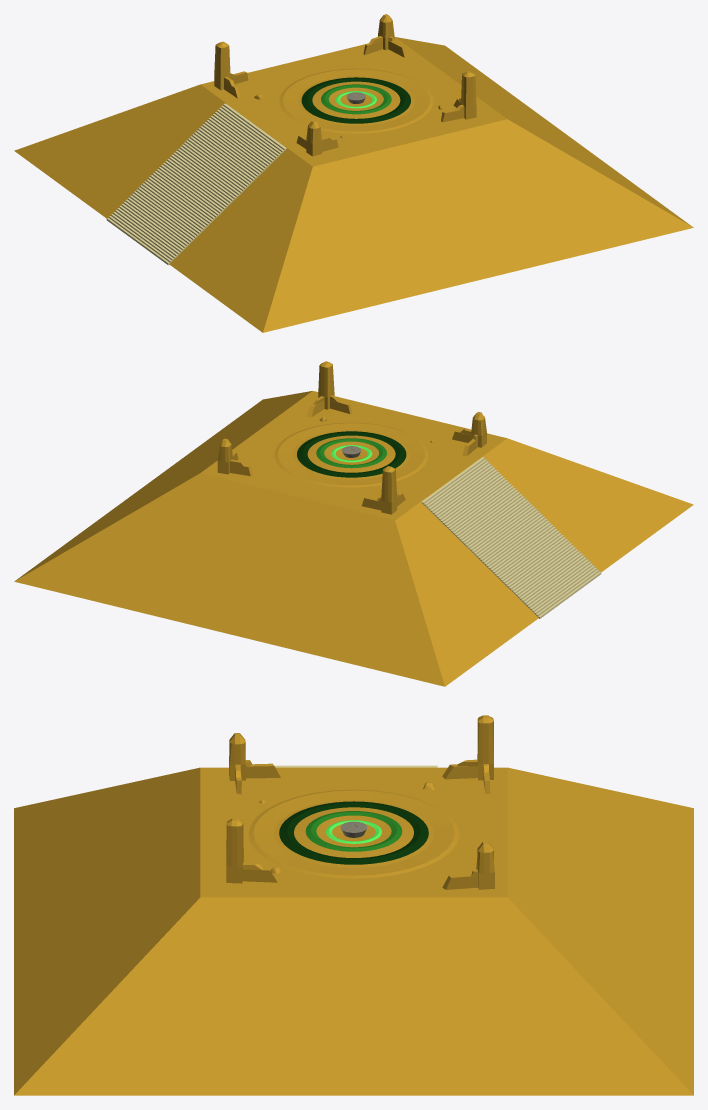
3 renders of one model, top to bottom at view 1: azimuth 30°, elevation 25°; view 2: azimuth 150°, elevation 25°; view 3: azimuth 270°, elevation 25°, orthographic. The views are drawn at different scales.
Visible parts, largest first — view 1: Pyramid, Stairs, Cylinder, Torus.002, Prop4, Prop4.001, Prop3, Prop3.001, Torus.001; view 2: Pyramid, Stairs, Cylinder, Torus.002, Prop4.001, Prop4, Prop3.001, Prop3, Torus.001; view 3: Pyramid, Cylinder, Torus.002, Prop4, Prop4.001, Prop3.001, Torus.001, Prop3.
Part boxes in pixels (x1,y1,x2,y2): Pyramid: (14,37,693,332); Stairs: (106,103,286,265); Cylinder: (279,68,433,133); Torus.002: (301,77,410,123); Prop4: (214,41,248,98); Prop4.001: (441,71,476,122); Prop3: (363,14,406,57); Prop3.001: (296,120,338,156); Torus.001: (321,84,391,114); Pyramid: (14,391,693,686); Stairs: (421,457,601,618); Cylinder: (274,422,428,487); Torus.002: (297,431,406,477); Prop4.001: (306,361,351,417); Prop4: (362,466,405,514); Prop3.001: (452,411,486,455); Prop3: (217,438,253,476); Torus.001: (316,438,386,468); Pyramid: (14,767,693,1095); Cylinder: (248,789,459,878); Torus.002: (279,801,428,864); Prop4: (442,715,493,794); Prop4.001: (226,818,277,883); Prop3.001: (229,733,280,794); Torus.001: (305,811,402,851); Prop3: (442,841,494,889).
Bounding box in the file's own units: 8493 × 2484 × 8472.
